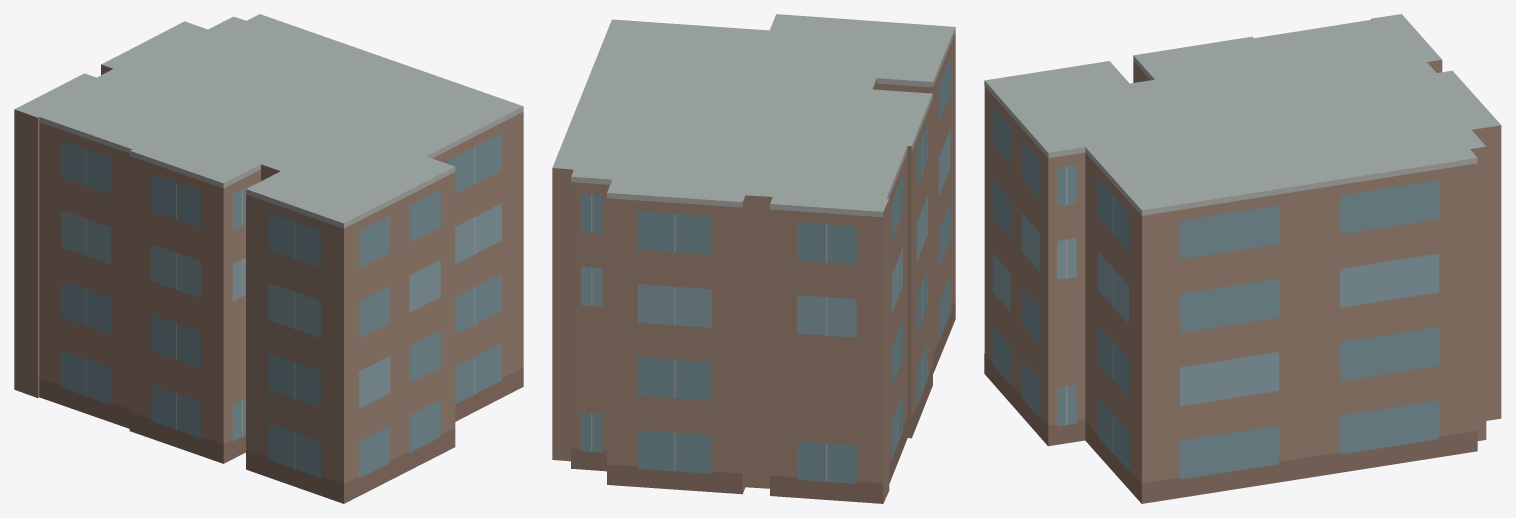
File: survey-upis-32867740.glb
The picture shows the model from 3 angles, left to right: view 1: azimuth 30°, elevation 25°; view 2: azimuth 150°, elevation 25°; view 3: azimuth 270°, elevation 25°; orthographic projection. The views are drawn at different scales.
Parts seen in each view (by area): view 1: survey-upis-32867740.tmp; view 2: survey-upis-32867740.tmp; view 3: survey-upis-32867740.tmp.
Boxes of the visible parts, <box> form: survey-upis-32867740.tmp: <box>14,14,523,503</box>; survey-upis-32867740.tmp: <box>552,14,955,503</box>; survey-upis-32867740.tmp: <box>984,14,1501,503</box>.
Bounding box in the file's own units: 18.97 × 13.2 × 21.09.
